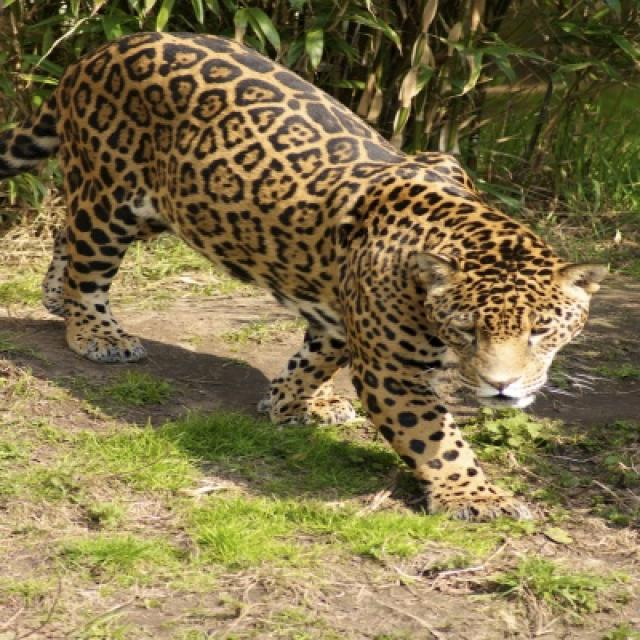Jaguar: (5, 32, 610, 525)
